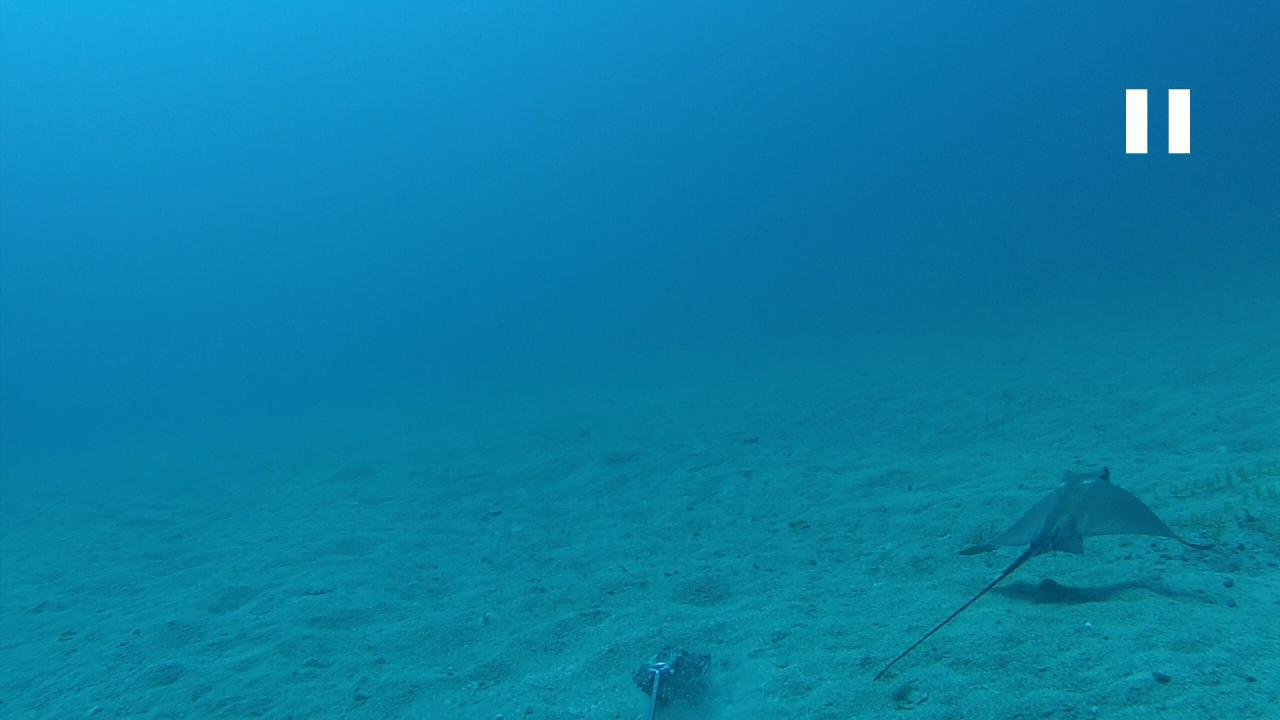dasyatis: (873, 466, 1216, 682)
